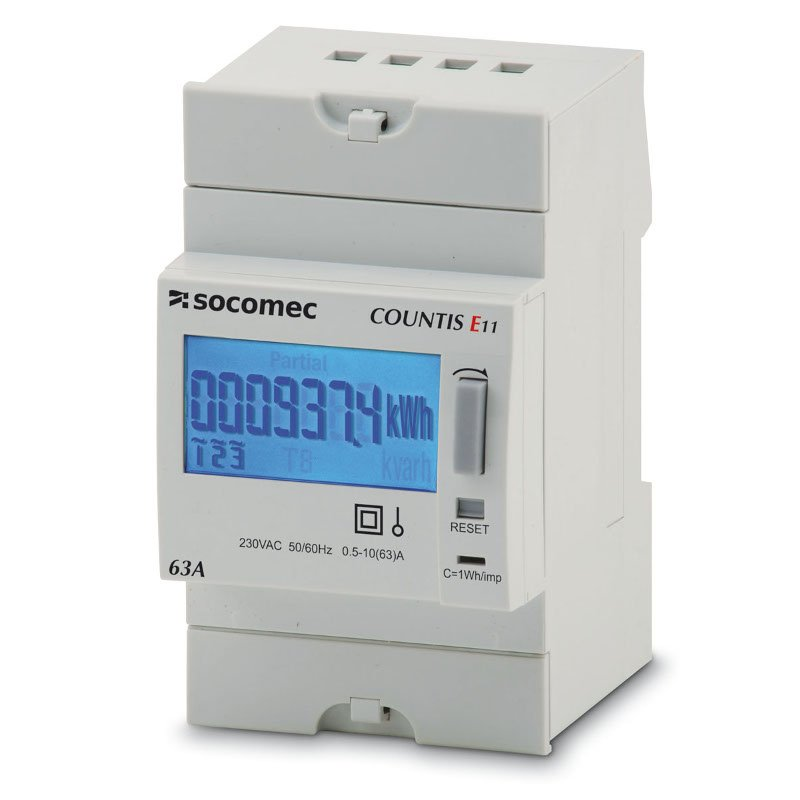counter: (150, 60, 560, 755)
counter_screen: (179, 331, 445, 498)
